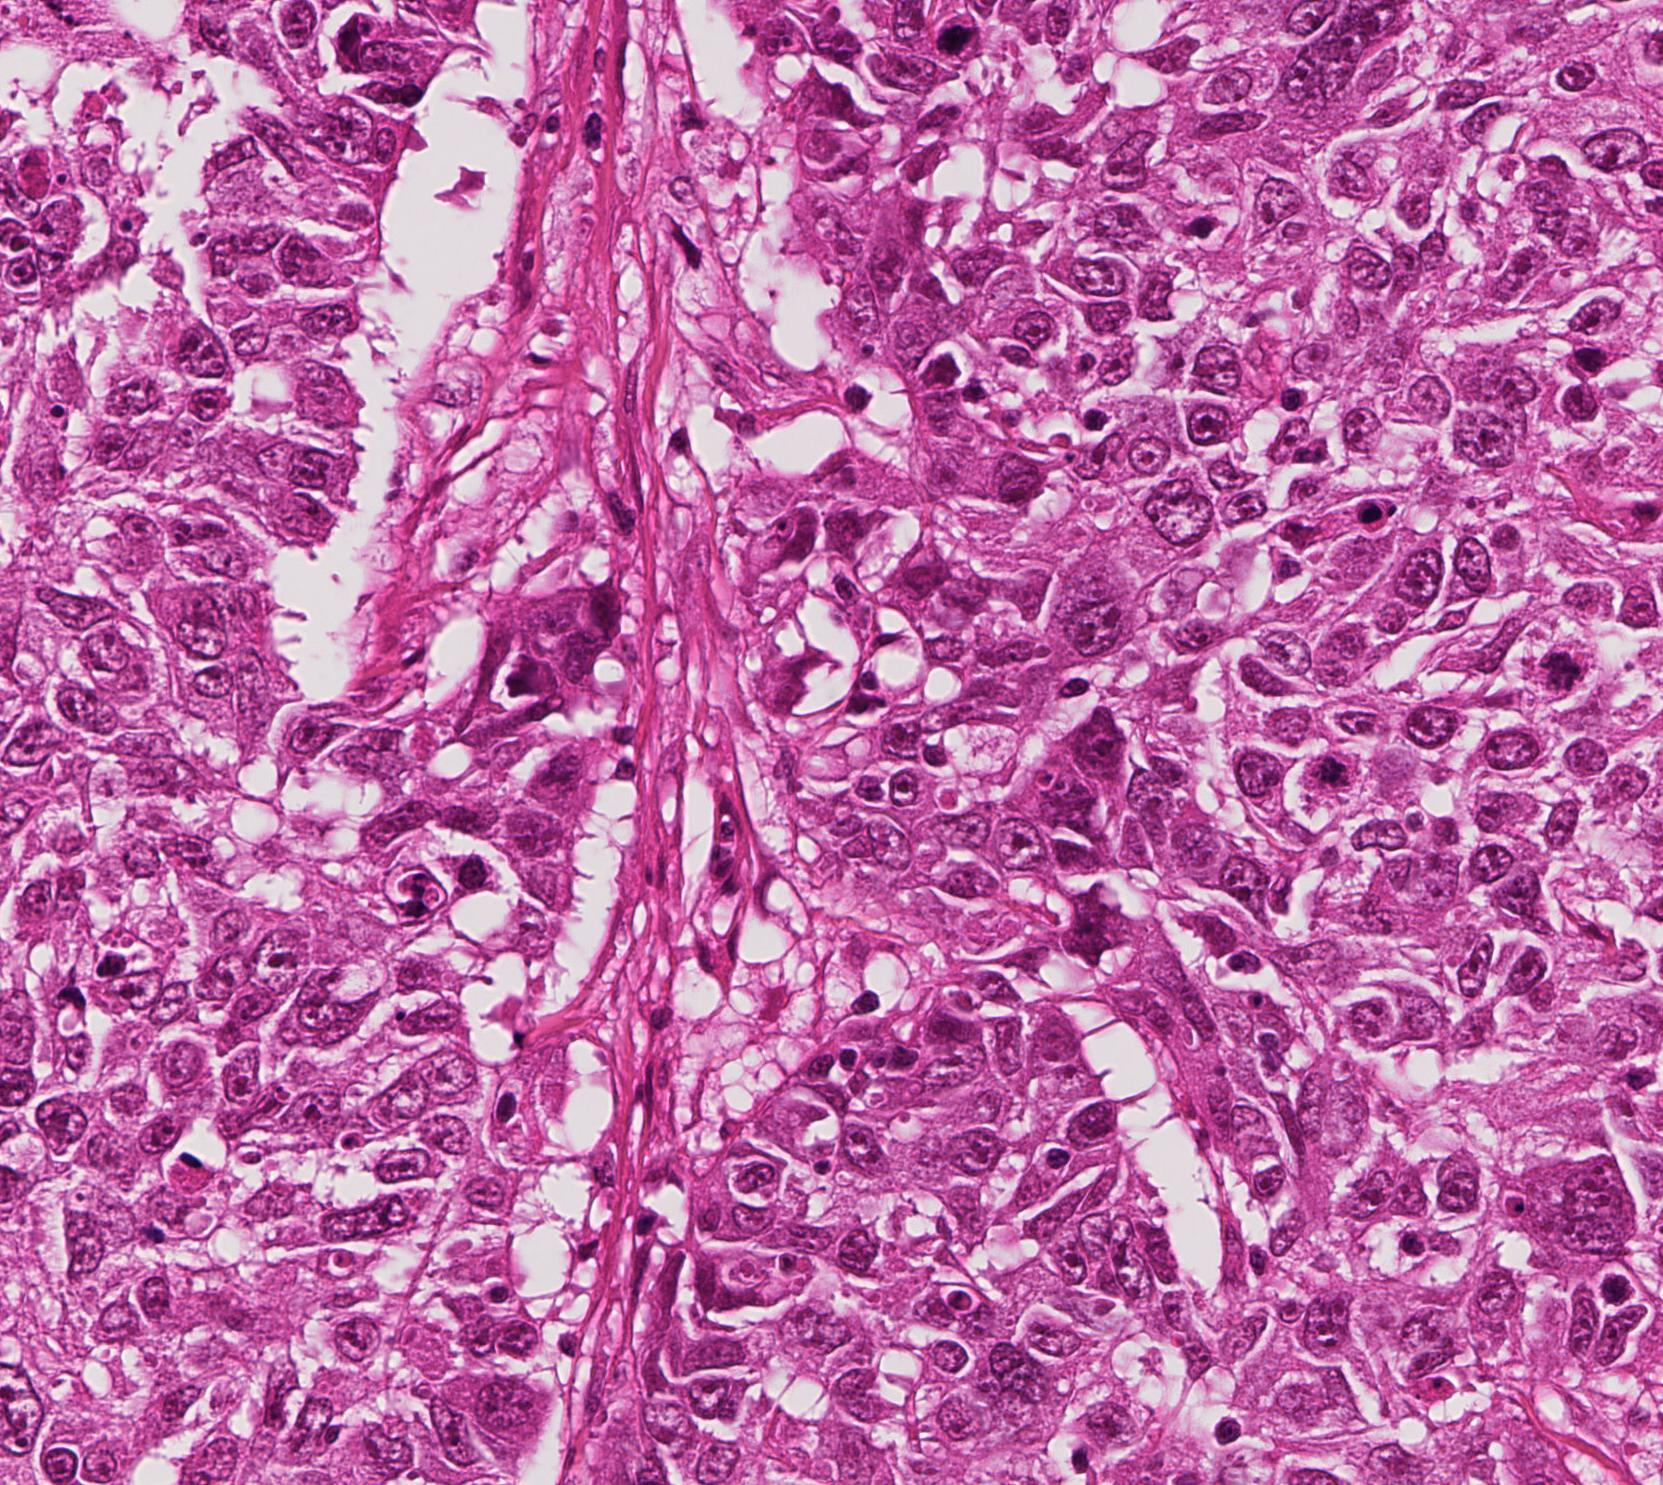mitosis: (1540, 636, 1598, 697), (1305, 744, 1363, 804)
